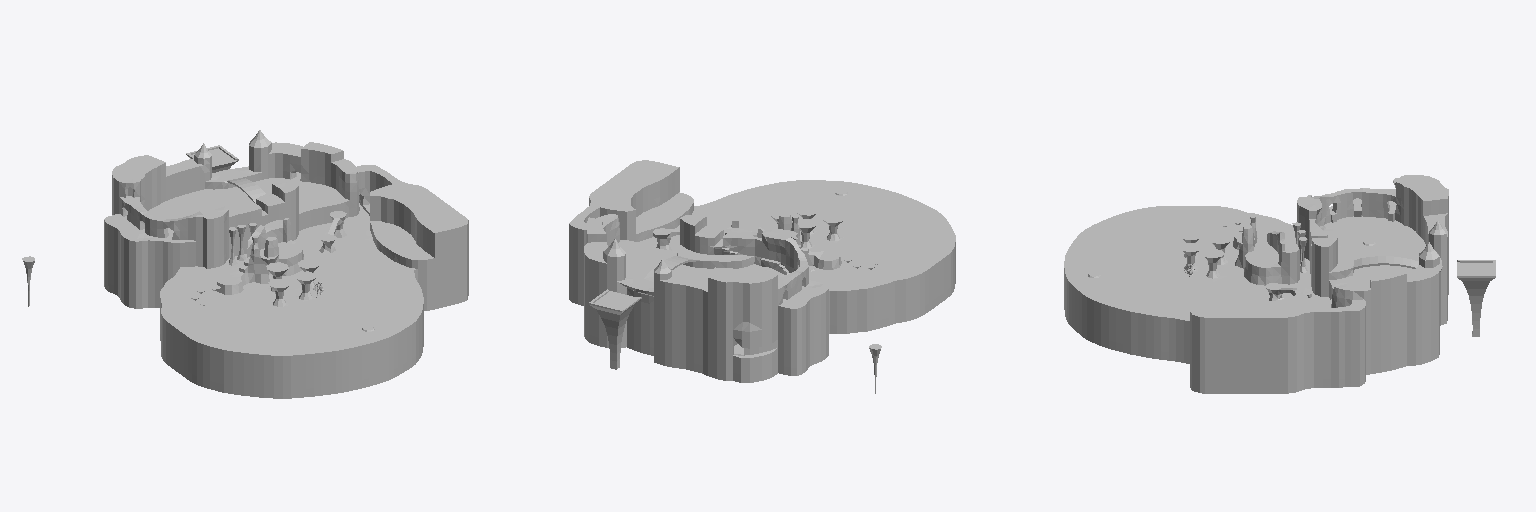
File: level.obj
3 renders of one model, left to right at view 1: azimuth 30°, elevation 25°; view 2: azimuth 150°, elevation 25°; view 3: azimuth 270°, elevation 25°, orthographic.
Visible parts, largest first — view 1: level; view 2: level; view 3: level.
Part boxes in pixels (x1,y1,x2,y2): level: (22,130,468,398); level: (569,160,955,393); level: (1064,175,1495,393).
Size of the model in its own units: 84.14 by 24.64 by 90.64.